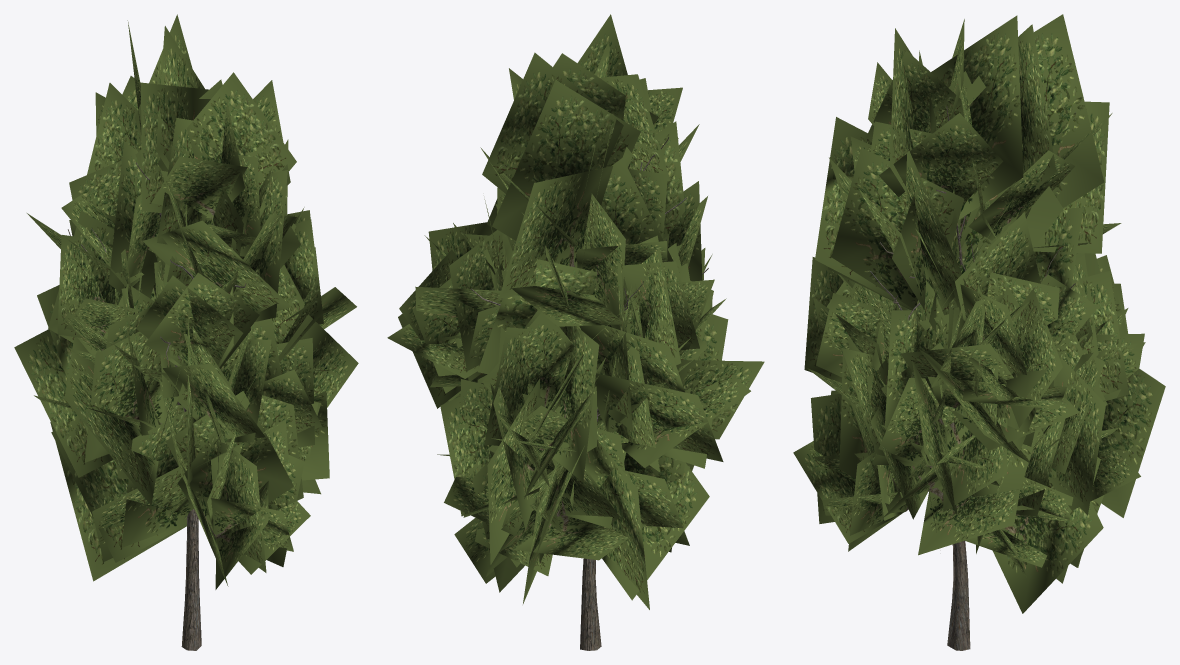
File: tree_large_01.fbx
3 views of the same model, side by side, from view 1: azimuth 30°, elevation 25°; view 2: azimuth 150°, elevation 25°; view 3: azimuth 270°, elevation 25° (orthographic). The views are drawn at different scales.
Visible parts, largest first — view 1: tree_large_01; view 2: tree_large_01; view 3: tree_large_01.
Part boxes in pixels (<box>): tree_large_01: <box>14,14,358,650</box>; tree_large_01: <box>387,14,764,650</box>; tree_large_01: <box>793,14,1165,650</box>.
Size of the model in its own units: 15.24 by 13.97 by 26.17.
